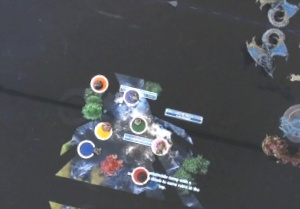blue: (74, 139, 99, 160)
green: (127, 112, 150, 135)
orange: (86, 71, 112, 95)
pink: (148, 135, 173, 157)
red: (123, 161, 152, 187)
violet: (118, 85, 144, 109)
yellow: (91, 116, 117, 141)
